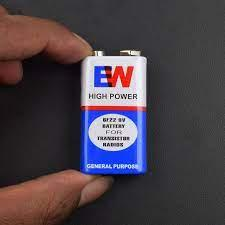9V Battery: (80, 50, 148, 176)
